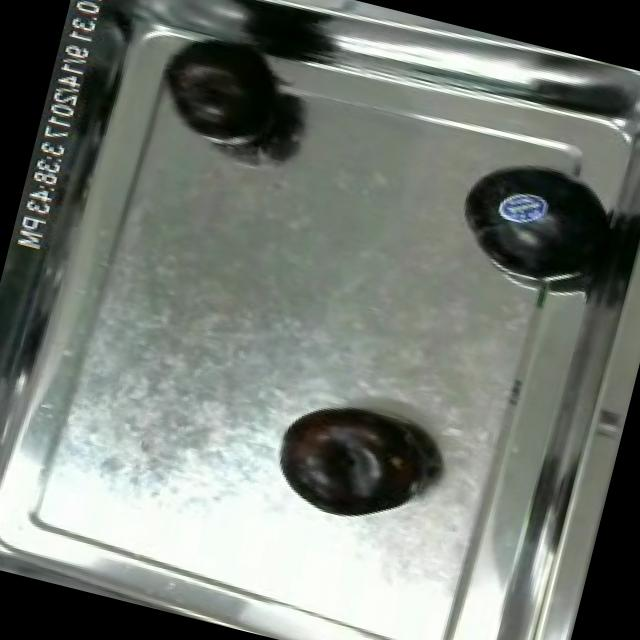Fruit: (438, 140, 628, 300), (261, 380, 441, 534), (145, 31, 302, 163)
